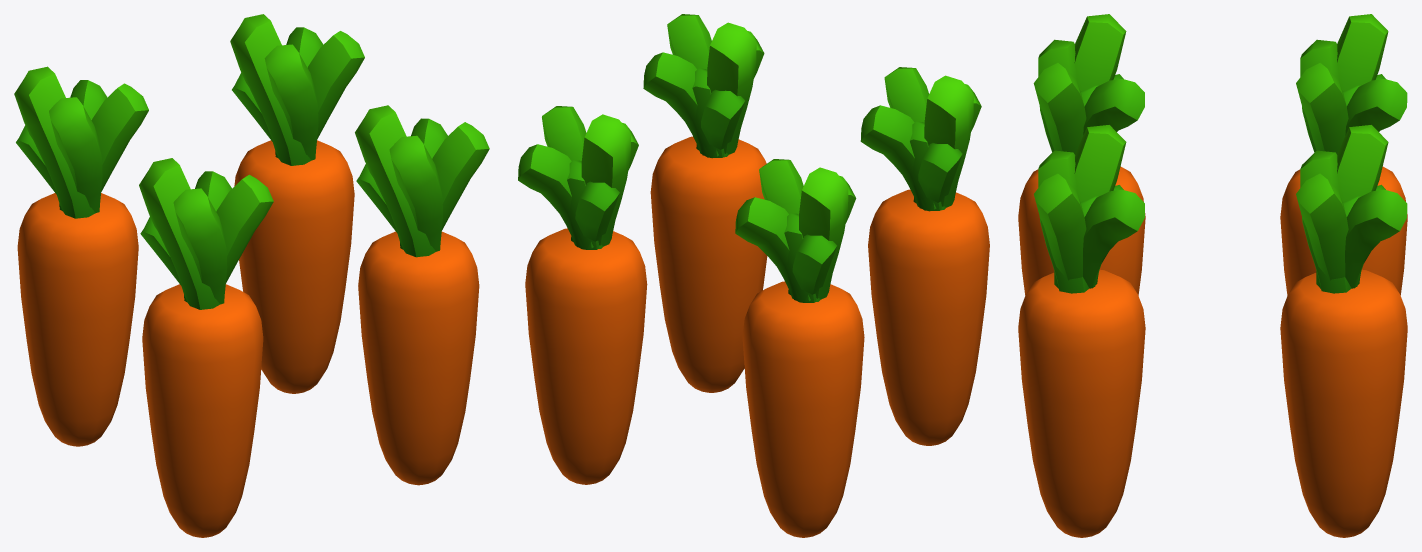
The model's file is cenoura.gltf.
3 views of the same model, side by side, from view 1: azimuth 30°, elevation 25°; view 2: azimuth 150°, elevation 25°; view 3: azimuth 270°, elevation 25° (orthographic). The views are drawn at different scales.
Visible parts, largest first — view 1: Farm_Crop_Carrot_Step_03; view 2: Farm_Crop_Carrot_Step_03; view 3: Farm_Crop_Carrot_Step_03.
Boxes of the visible parts, x1,y1,x2,y2 form: Farm_Crop_Carrot_Step_03: (14, 14, 489, 537); Farm_Crop_Carrot_Step_03: (518, 14, 989, 537); Farm_Crop_Carrot_Step_03: (1018, 14, 1407, 537).
Bounding box in the file's own units: 1.56 × 1.71 × 1.54.
1 material, 1 textured.
